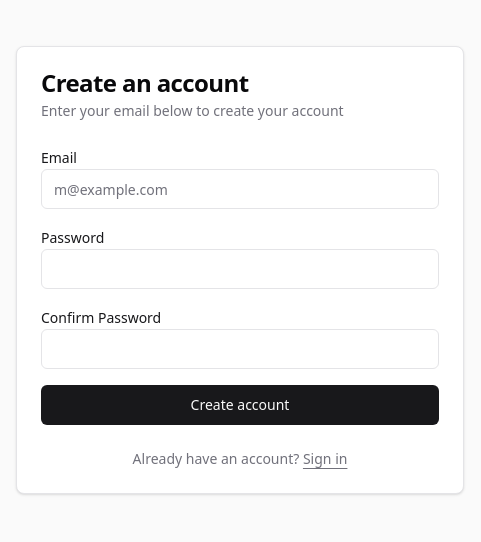
Test: Signup page › duplicate email shows error
Type "existing@example.com" into the field with id "email" at (240, 189), box [41,169,439,209]
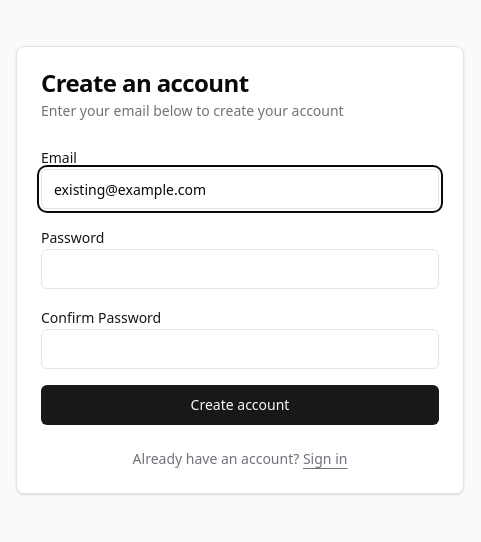
Type "password123" into the password field labelled "Password" at (240, 269), box [41,249,439,289]
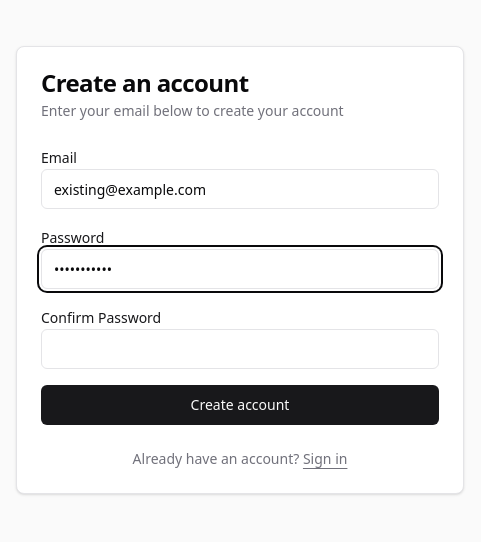
Type "password123" into the password field with id "confirmPassword" at (240, 349), box [41,329,439,369]
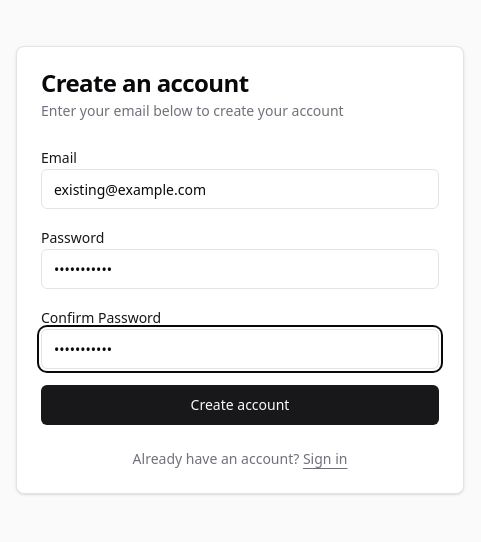
Click the button "Create account" at (240, 405), box [41,385,439,425]
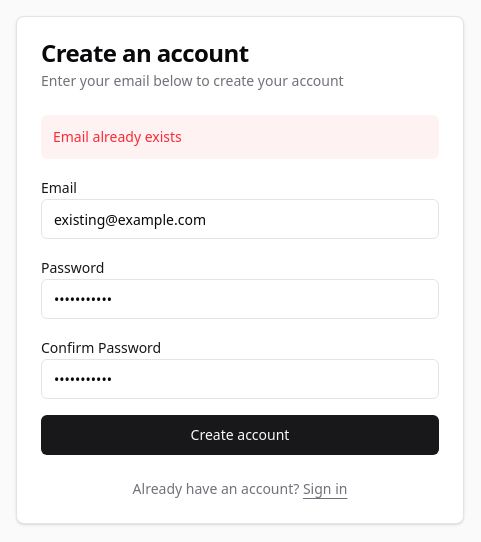
Check: the text "Email already exists" is shown, box [41,115,439,159]
